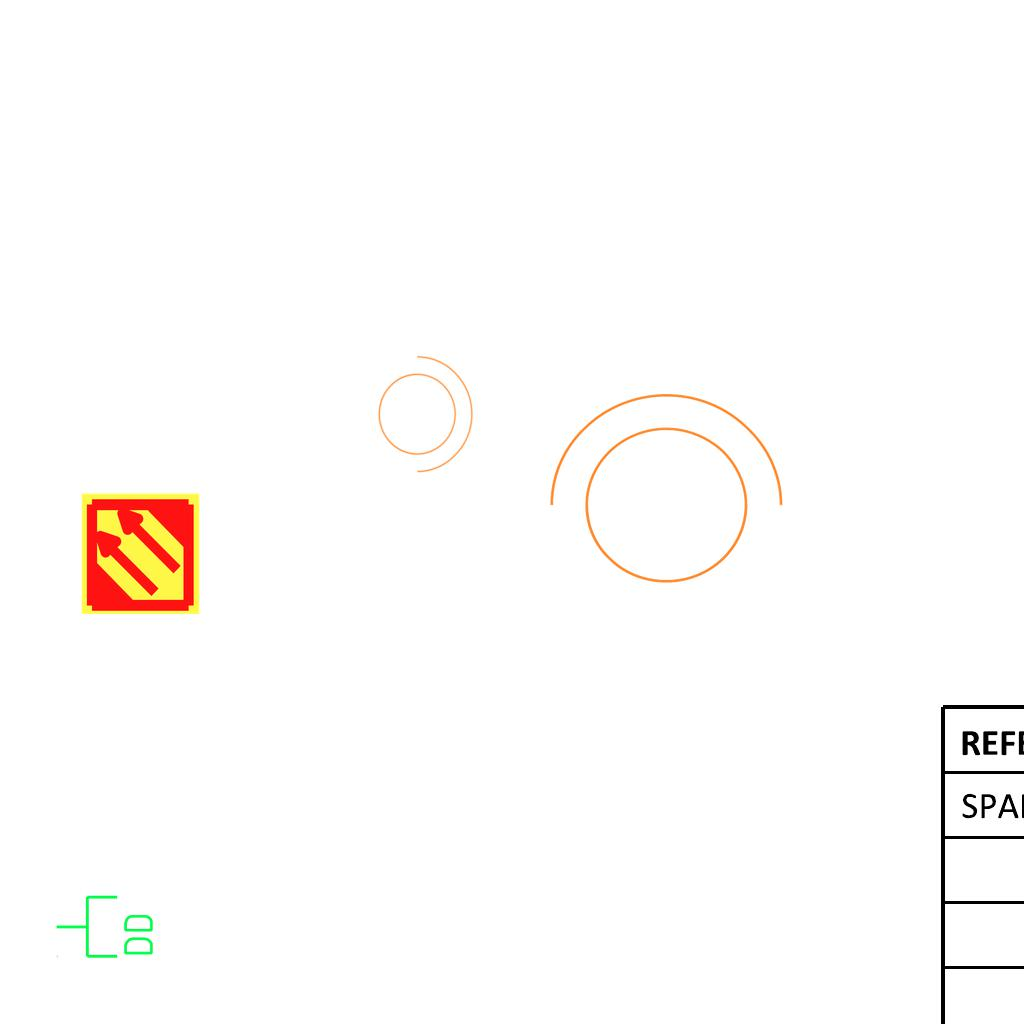ASR_Ansaugrauchmelder: (78, 491, 203, 616)
Datenanschluss_zweifach: (54, 893, 157, 962)
Scheinwerfer_fuer_Alarmbeleuchtung: (528, 383, 792, 608), (366, 345, 478, 477)
